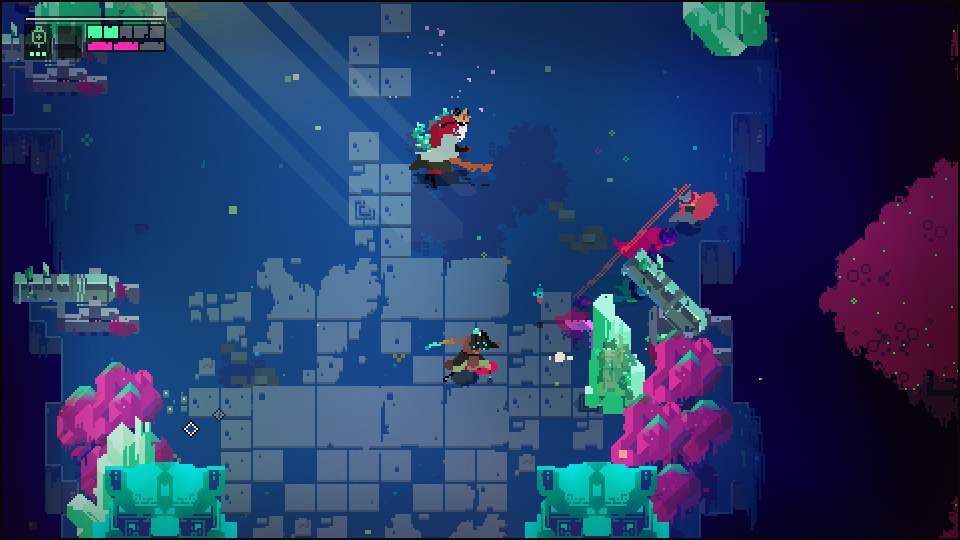hanged_man: (411, 110, 469, 176)
player: (668, 185, 716, 229)
